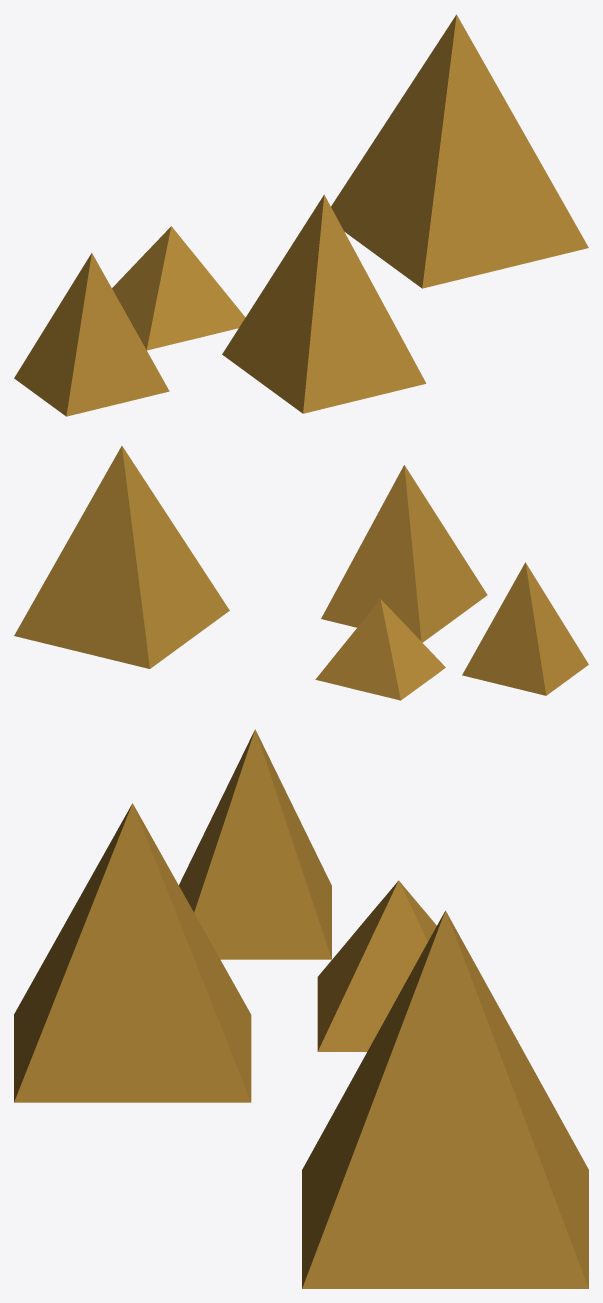
Rendered from Pyramiden.FBX.
The picture shows the model from 3 angles, top to bottom: view 1: azimuth 30°, elevation 25°; view 2: azimuth 150°, elevation 25°; view 3: azimuth 270°, elevation 25°; orthographic projection. The views are drawn at different scales.
Parts seen in each view (by area): view 1: Pyramid004, Pyramid001, Pyramid003, Pyramid002; view 2: Pyramid004, Pyramid001, Pyramid003, Pyramid002; view 3: Pyramid004, Pyramid001, Pyramid003, Pyramid002.
Boxes of the visible parts, box(x1,y1,x2,y2) form: Pyramid004: box(331, 14, 588, 288); Pyramid001: box(222, 194, 426, 413); Pyramid003: box(14, 253, 169, 416); Pyramid002: box(112, 226, 245, 350); Pyramid004: box(14, 446, 229, 668); Pyramid001: box(321, 465, 487, 642); Pyramid003: box(462, 562, 588, 695); Pyramid002: box(315, 599, 445, 700); Pyramid004: box(302, 910, 588, 1288); Pyramid001: box(14, 803, 251, 1102); Pyramid003: box(179, 729, 331, 959); Pyramid002: box(317, 880, 436, 1051).
Size of the model in its own units: 237 by 87.6 by 143.
